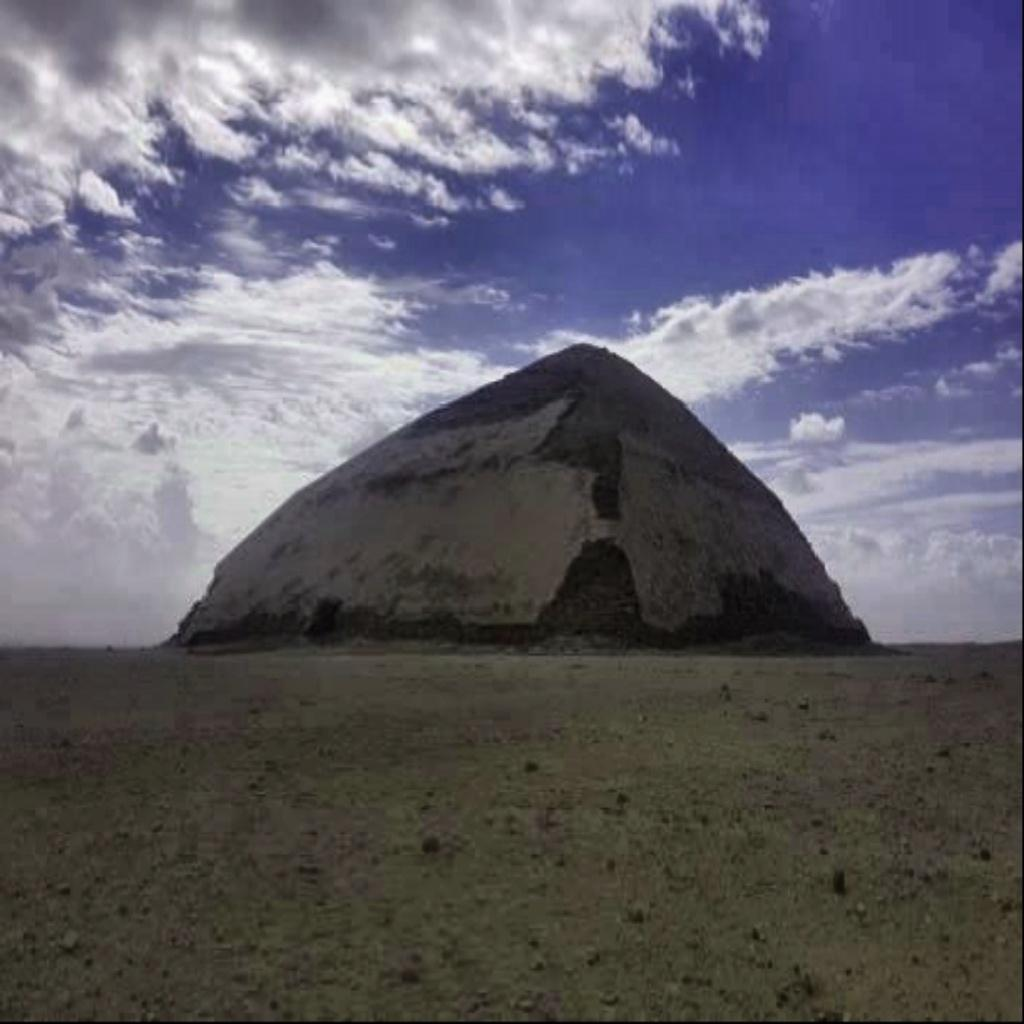Bent Pyramid of King Sneferu: (167, 337, 875, 654)
